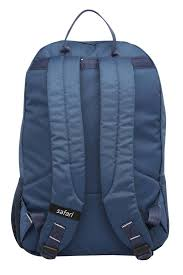backpack: (10, 8, 169, 260)
